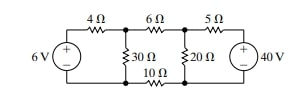dc: (226, 40, 262, 73), (51, 41, 84, 73)
resistor: (143, 24, 167, 37), (85, 25, 109, 37), (119, 46, 132, 68), (203, 25, 228, 36), (144, 78, 166, 90), (179, 46, 191, 68)
